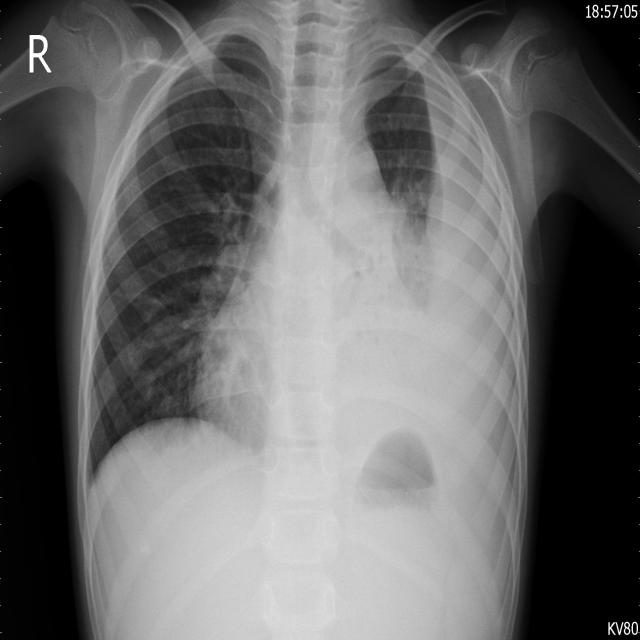high-pneumonia: (403, 198, 516, 358)
